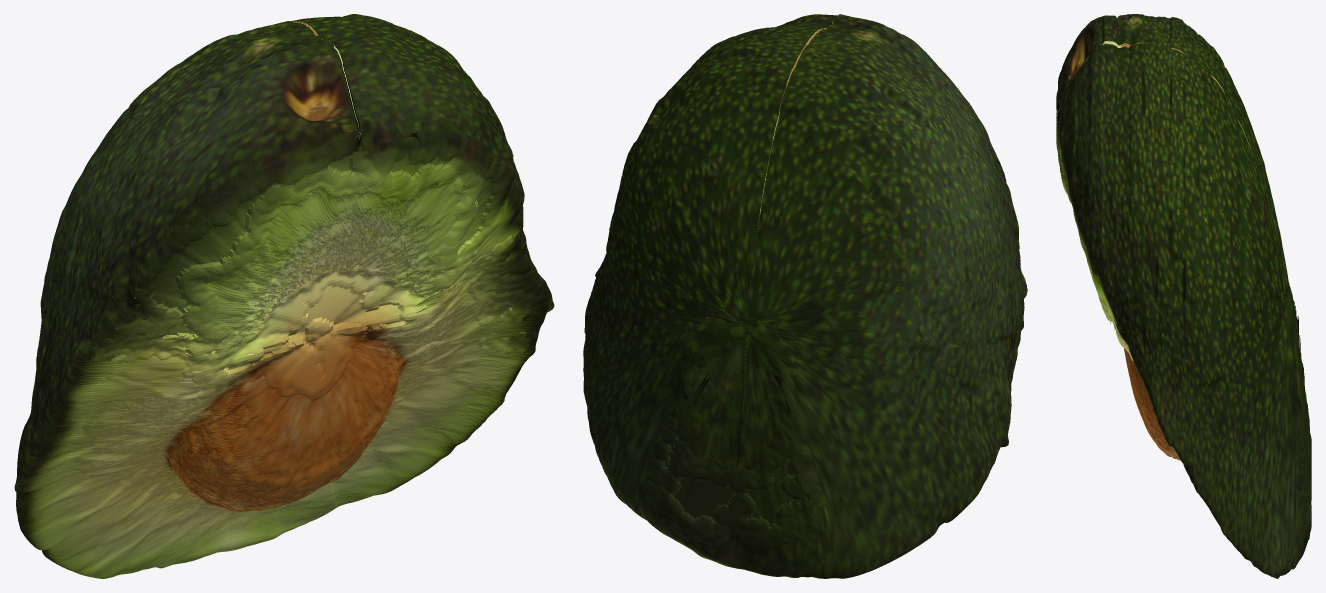
Rendered from volume2_mesh.glb.
3 views of the same model, side by side, from view 1: azimuth 30°, elevation 25°; view 2: azimuth 150°, elevation 25°; view 3: azimuth 270°, elevation 25° (orthographic). The views are drawn at different scales.
Visible parts, largest first — view 1: ipn, fill; view 2: ipn, fill; view 3: ipn, fill.
Boxes of the visible parts, x1,y1,x2,y2 form: ipn: [14, 14, 554, 578]; fill: [88, 127, 549, 400]; ipn: [583, 14, 1027, 578]; fill: [598, 269, 827, 548]; ipn: [1058, 14, 1309, 578]; fill: [1056, 71, 1311, 543].
Bounding box in the file's own units: 1.76 × 1.93 × 0.8862.
Materials: 2 (1 with a texture image).
